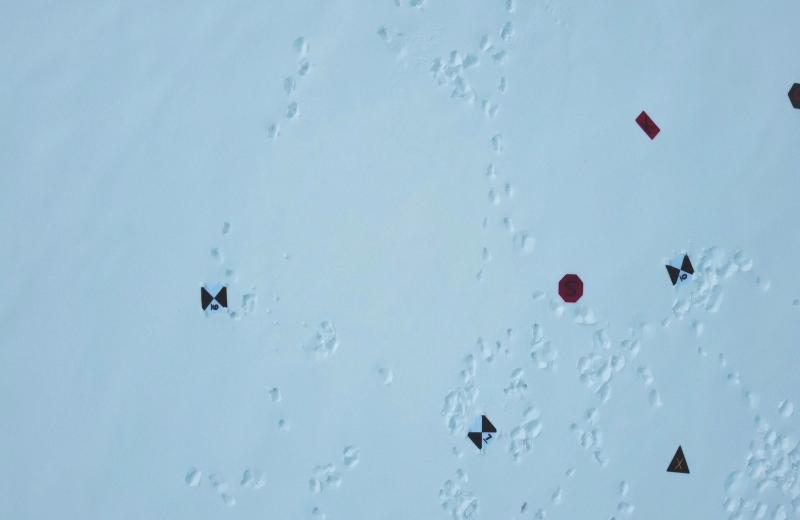Hexagon: (782, 82, 800, 111)
Octagon: (556, 272, 584, 308)
Rectangle: (636, 108, 662, 140)
Triangle: (665, 443, 690, 477)
